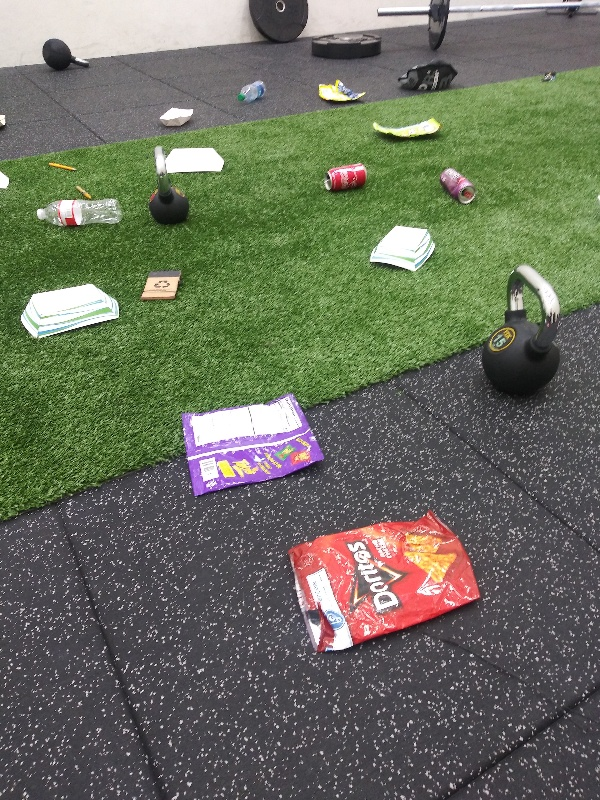bag: (286, 510, 485, 659), (180, 392, 322, 501), (372, 116, 443, 144), (315, 76, 371, 106)
bottle: (32, 197, 124, 230), (234, 78, 270, 106)
can: (437, 164, 479, 206), (322, 159, 372, 193)
plate: (19, 285, 122, 343), (364, 224, 439, 274), (165, 144, 226, 175), (157, 104, 193, 131)
